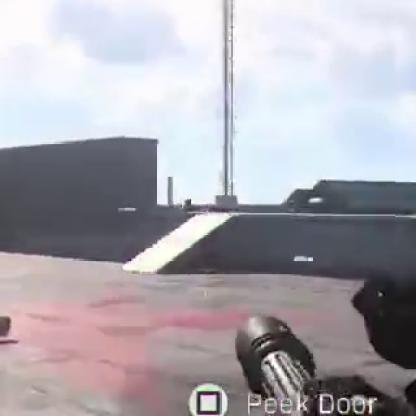enemy: (182, 196, 194, 212)
